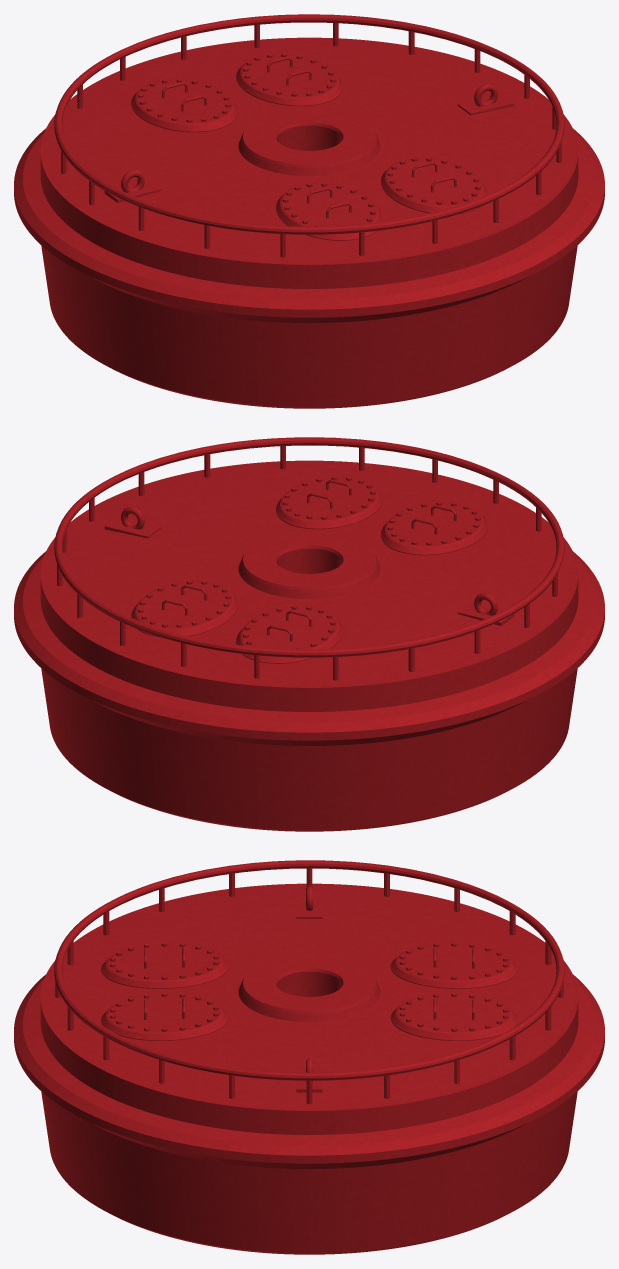
File: NEW694_MooringBuoy_LOD1.fbx
The picture shows the model from 3 angles, top to bottom: view 1: azimuth 30°, elevation 25°; view 2: azimuth 150°, elevation 25°; view 3: azimuth 270°, elevation 25°; orthographic projection.
Parts seen in each view (by area): view 1: Buoy_body_integral_closed_hatches_central_through_bore, Four_closed_oval_hatch_covers_seated_on_deck, Low_circular_rail_and_twenty_attached_supports, Four_hatch_bolt_sets_and_eight_grab_handles, Two_lifting_eye_assemblies_with_attached_baseplates; view 2: Buoy_body_integral_closed_hatches_central_through_bore, Four_closed_oval_hatch_covers_seated_on_deck, Low_circular_rail_and_twenty_attached_supports, Four_hatch_bolt_sets_and_eight_grab_handles, Two_lifting_eye_assemblies_with_attached_baseplates; view 3: Buoy_body_integral_closed_hatches_central_through_bore, Four_closed_oval_hatch_covers_seated_on_deck, Low_circular_rail_and_twenty_attached_supports, Four_hatch_bolt_sets_and_eight_grab_handles, Two_lifting_eye_assemblies_with_attached_baseplates.
Boxes of the visible parts, x1,y1,x2,y2 form: Buoy_body_integral_closed_hatches_central_through_bore: (14,37,604,408); Four_closed_oval_hatch_covers_seated_on_deck: (131,54,487,240); Low_circular_rail_and_twenty_attached_supports: (54,14,564,257); Four_hatch_bolt_sets_and_eight_grab_handles: (138,53,480,226); Two_lifting_eye_assemblies_with_attached_baseplates: (104,84,514,202); Buoy_body_integral_closed_hatches_central_through_bore: (14,460,604,831); Four_closed_oval_hatch_covers_seated_on_deck: (131,477,487,663); Low_circular_rail_and_twenty_attached_supports: (54,437,564,680); Four_hatch_bolt_sets_and_eight_grab_handles: (138,476,480,649); Two_lifting_eye_assemblies_with_attached_baseplates: (104,507,514,625); Buoy_body_integral_closed_hatches_central_through_bore: (14,883,604,1254); Four_closed_oval_hatch_covers_seated_on_deck: (101,944,517,1040); Low_circular_rail_and_twenty_attached_supports: (54,860,564,1104); Four_hatch_bolt_sets_and_eight_grab_handles: (110,942,508,1031); Two_lifting_eye_assemblies_with_attached_baseplates: (296,886,322,1092).
Size of the model in its own units: 2 by 0.6733 by 2.
1 material, 1 textured.
